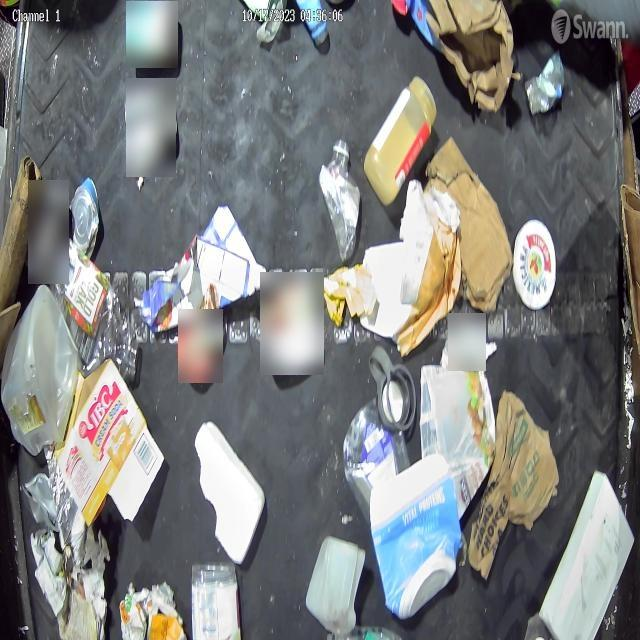milk_jug: (1, 286, 80, 457)
non_white_jug: (370, 453, 460, 621)
